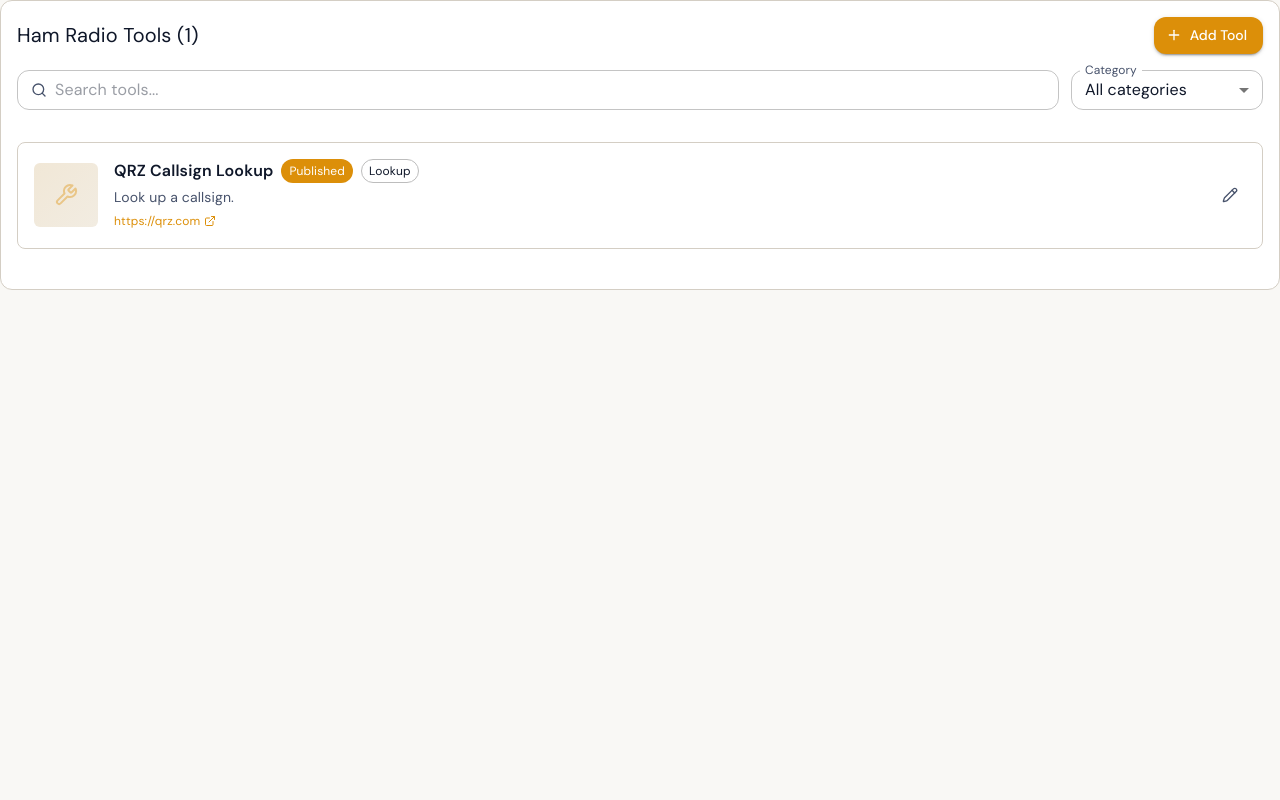
AdminHamRadioTools › add dialog › labels every field, including the category select
Step 1. Click the button "Add Tool" → (1208, 35), box [1154, 17, 1263, 54]
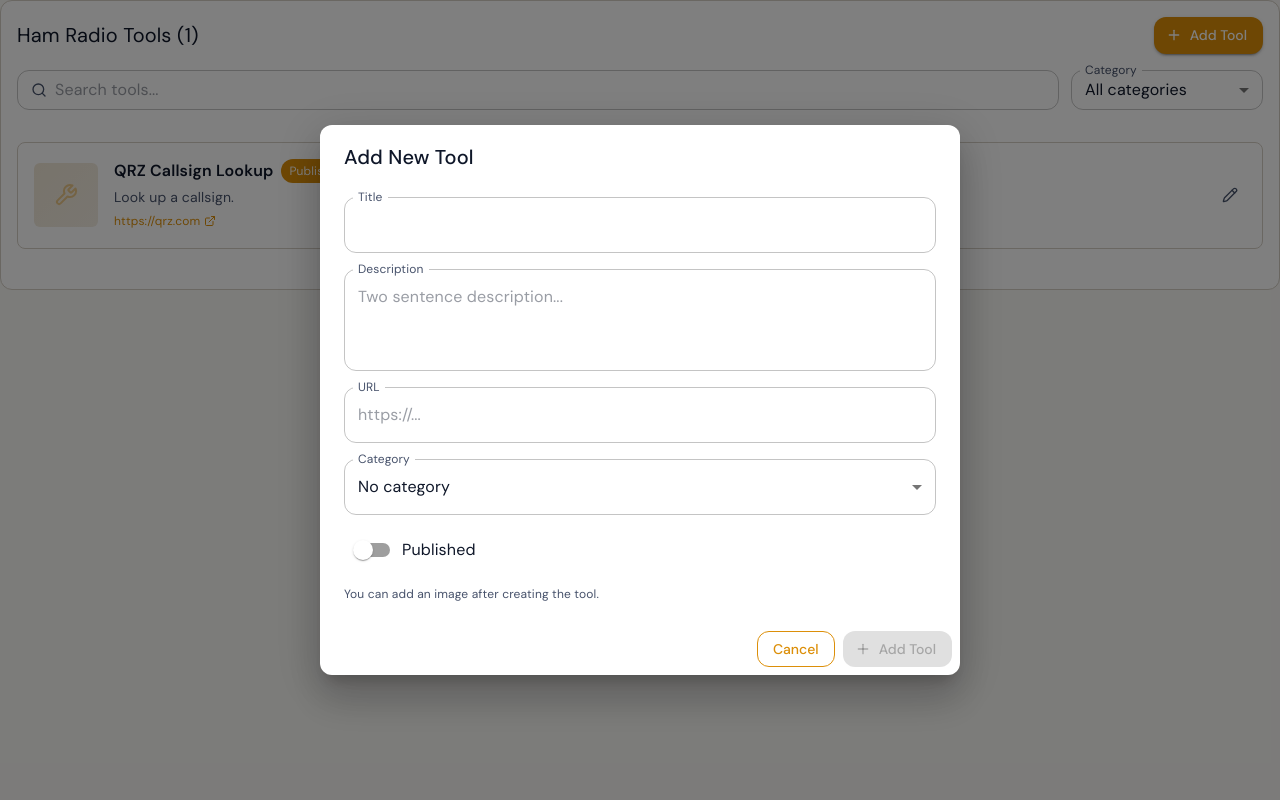
Expected: the field labelled "Title" is shown, [344, 197, 936, 253]
Expected: the text box labelled "Description" is shown, [358, 285, 922, 354]
Expected: the field labelled "URL" is shown, [344, 387, 936, 443]
